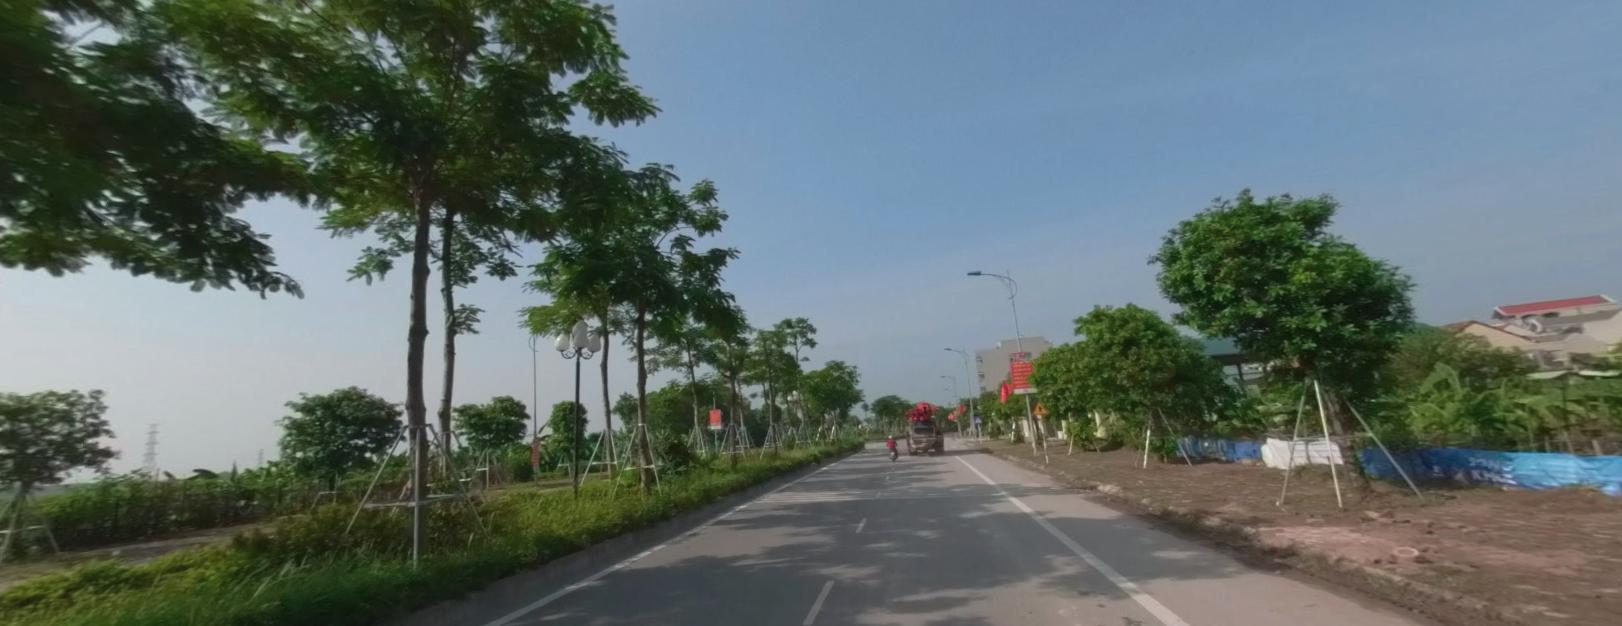Nguy hiem: (1033, 400, 1049, 413)
